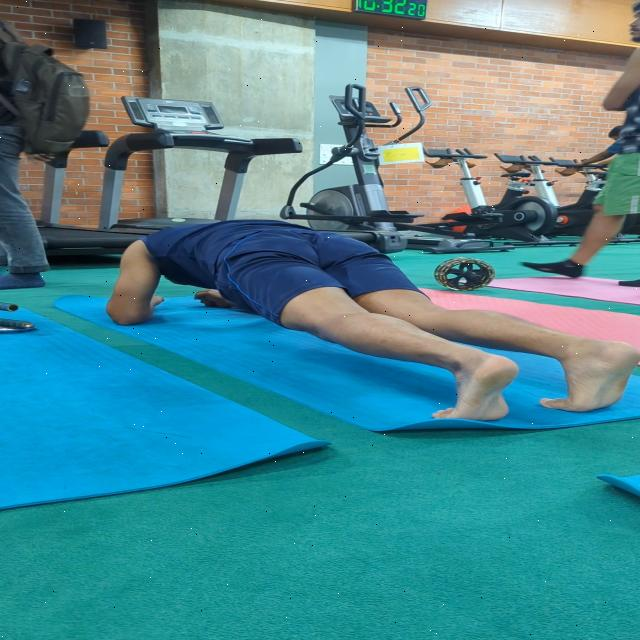Normal_Plunk: (96, 208, 640, 428)
